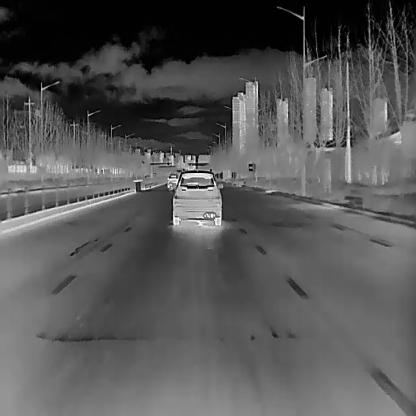car: (172, 169, 223, 224), (166, 172, 178, 188)
